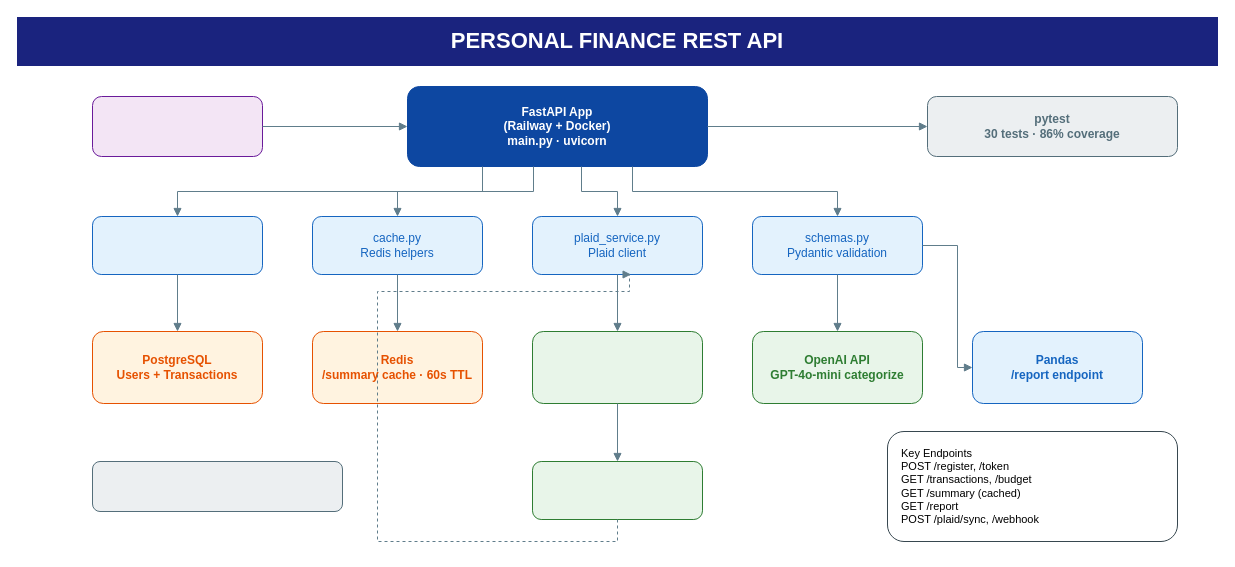
Some shapes in this 1235 by 567 pixel diagram are drawn without their labels. Here are the shapes that lost their labels. From the top down, the centre of each, then its label:
point 177,126: Client / Swagger UI
point 177,245: auth.py JWT + bcrypt
point 617,367: Plaid API bank transactions
point 217,486: Dockerfile + docker-compose Postgres + Redis locally
point 617,490: Plaid Webhook auto-sync on update
